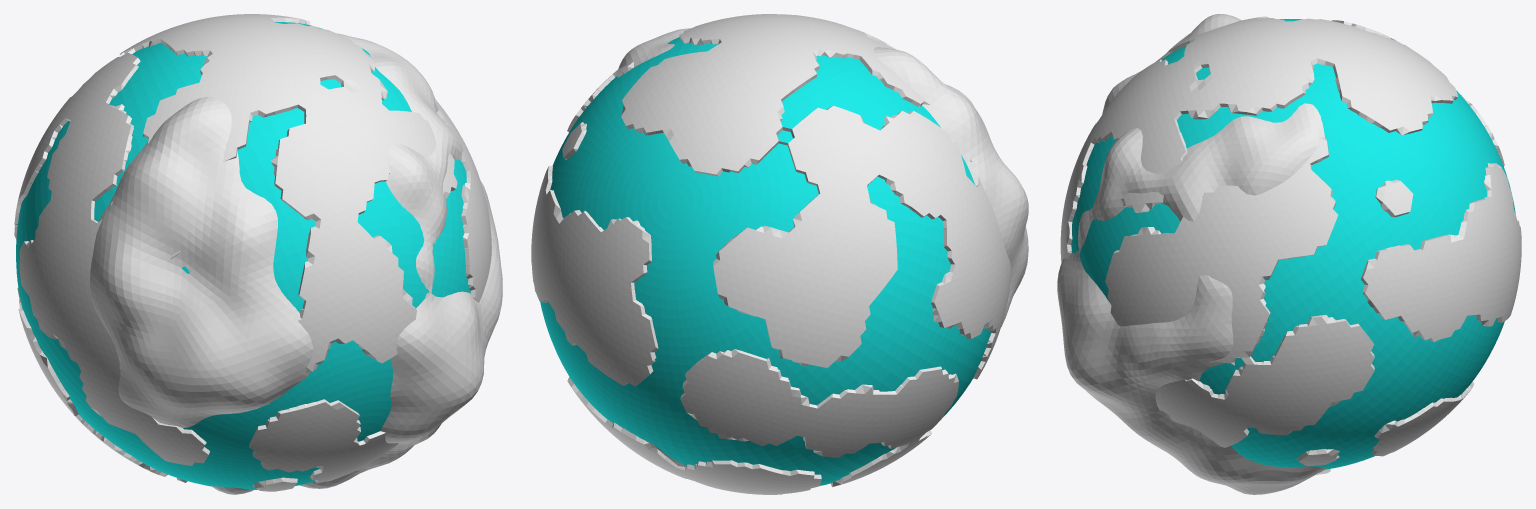
Rendered from planet test.fbx.
3 views of the same model, side by side, from view 1: azimuth 30°, elevation 25°; view 2: azimuth 150°, elevation 25°; view 3: azimuth 270°, elevation 25° (orthographic). The views are drawn at different scales.
Visible parts, largest first — view 1: Cube; view 2: Cube; view 3: Cube.
Boxes of the visible parts, box(x1,y1,x2,y2) form: Cube: box(14, 14, 502, 494); Cube: box(531, 14, 1028, 494); Cube: box(1057, 14, 1521, 494).
Size of the model in its own units: 205 by 211 by 206.
